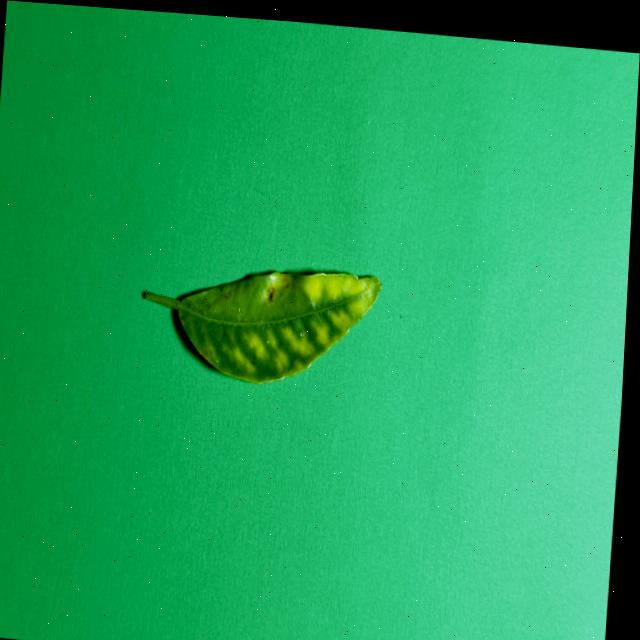greening: (141, 272, 379, 383)
